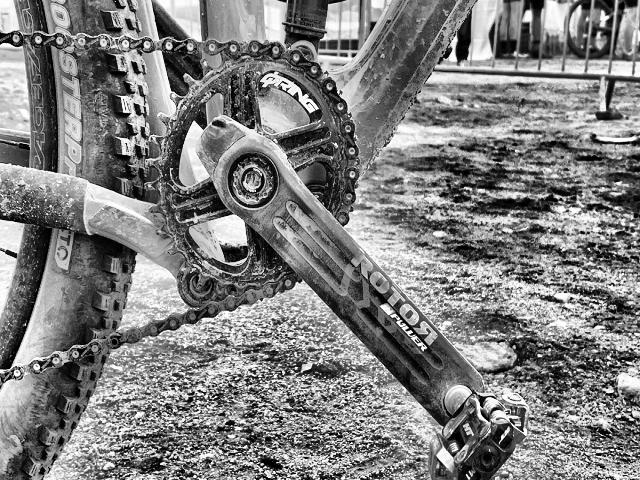cranks_set: (143, 44, 490, 417)
pedal: (423, 374, 532, 480)
